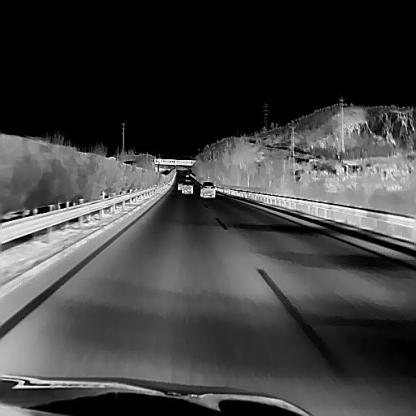car: (199, 180, 214, 196), (180, 180, 193, 192), (176, 180, 184, 190)
